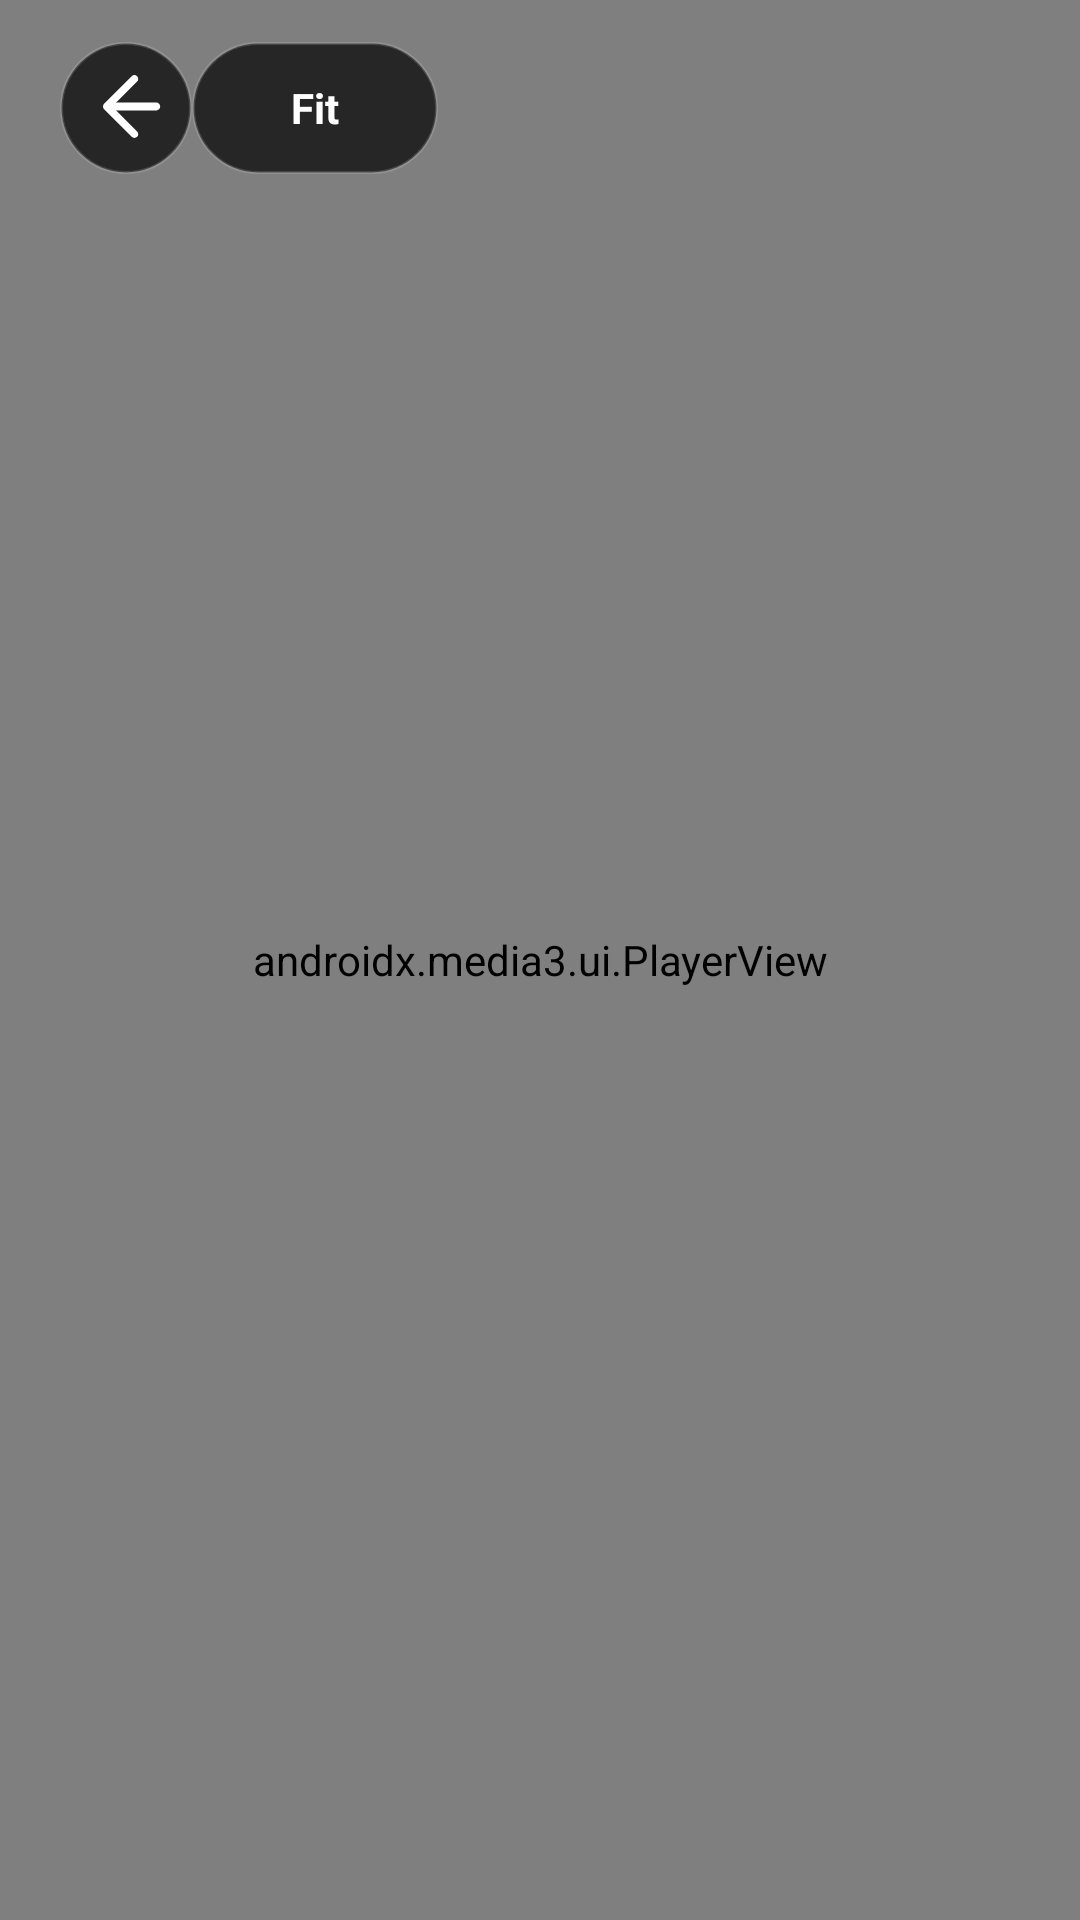

Named icons in this screenshot (1080 x 1920) and their centers, [x,y]:
Close player: [126,108]
